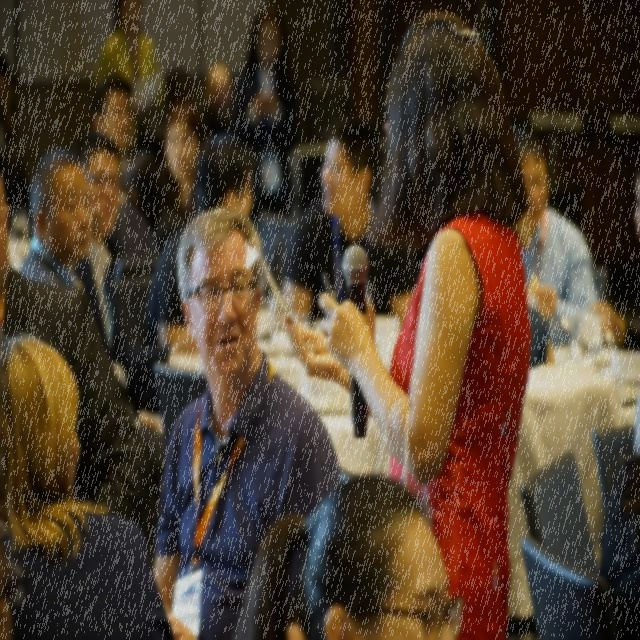pessoa: (282, 6, 534, 638), (152, 204, 344, 638), (0, 166, 155, 524), (0, 332, 177, 638), (70, 128, 162, 581), (237, 472, 470, 638), (280, 120, 420, 336), (154, 127, 256, 354), (511, 131, 600, 345), (226, 2, 300, 225), (12, 141, 96, 295), (92, 0, 166, 111), (600, 448, 640, 638), (0, 44, 45, 186), (160, 100, 208, 226), (168, 47, 232, 126), (89, 74, 135, 180)
